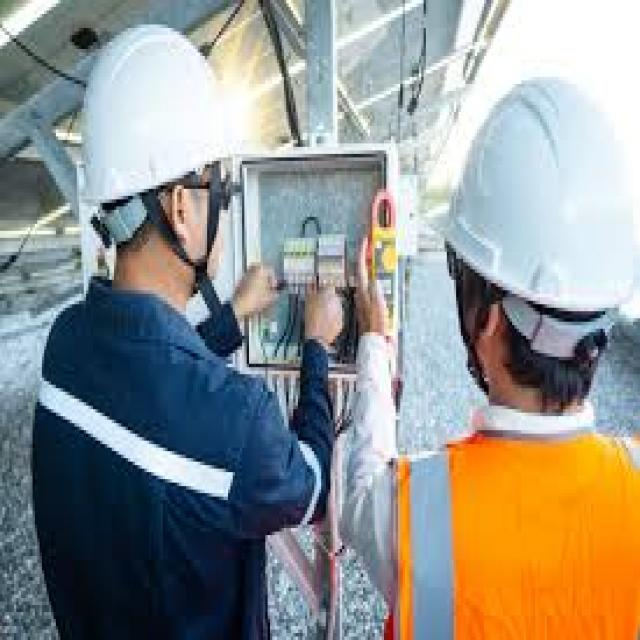Reflective-Jacket: (391, 423, 640, 640)
Safety-Helmet: (435, 70, 640, 322), (70, 17, 253, 210)
